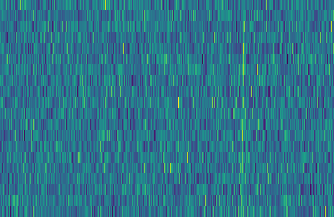signal: (238, 0, 249, 217)
